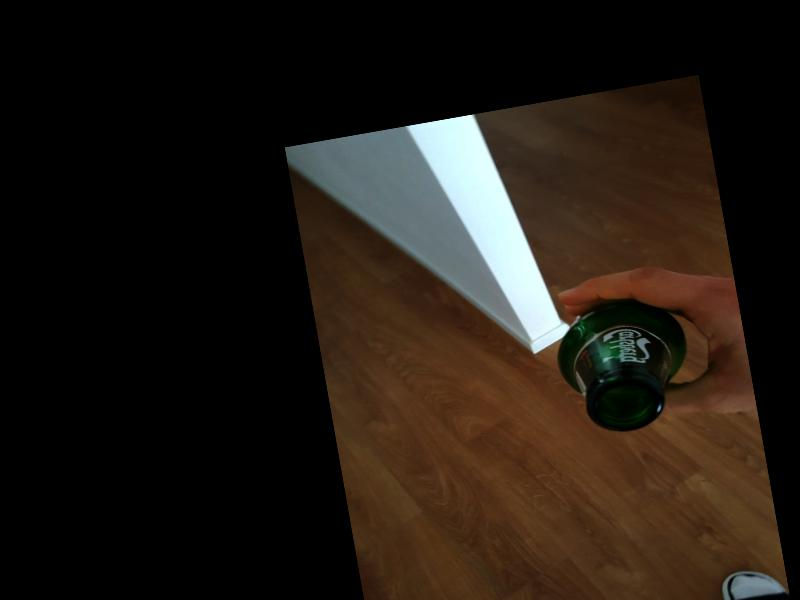Beer: (549, 290, 701, 440)
